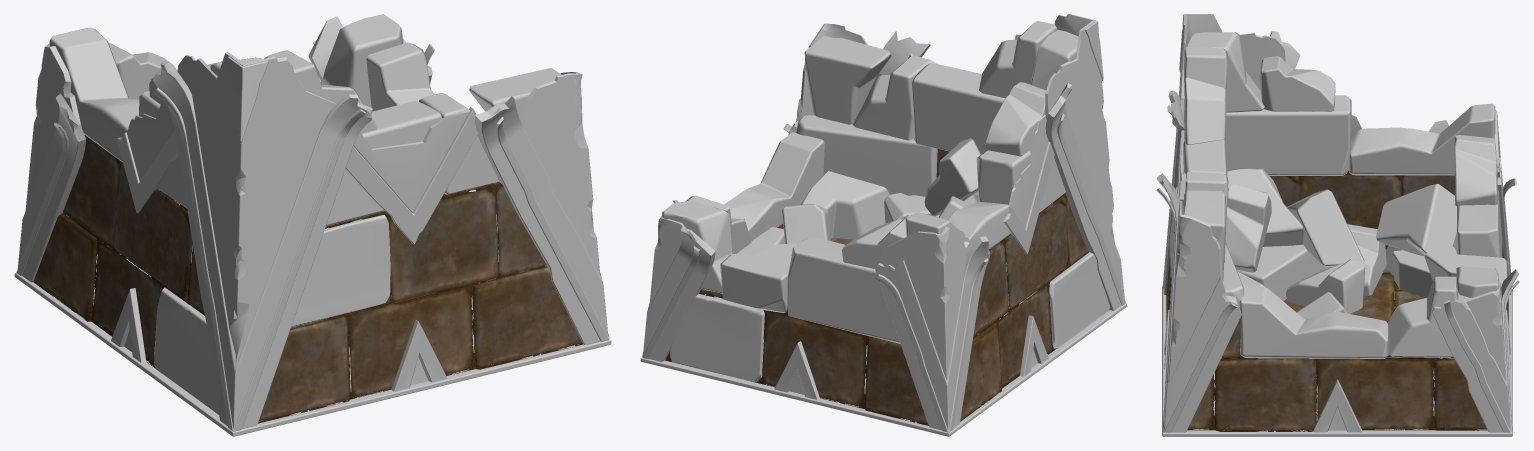
3 views of the same model, side by side, from view 1: azimuth 30°, elevation 25°; view 2: azimuth 150°, elevation 25°; view 3: azimuth 270°, elevation 25° (orthographic). The views are drawn at different scales.
Visible parts, largest first — view 1: SM_DK_20m_TowerMid_02_LOD0; view 2: SM_DK_20m_TowerMid_02_LOD0; view 3: SM_DK_20m_TowerMid_02_LOD0.
Part boxes in pixels (left/top/right/bottom): SM_DK_20m_TowerMid_02_LOD0: left=14, top=14, right=611, bottom=436; SM_DK_20m_TowerMid_02_LOD0: left=640, top=14, right=1127, bottom=436; SM_DK_20m_TowerMid_02_LOD0: left=1156, top=14, right=1519, bottom=436.
Bounding box in the file's own units: 6.45 × 5.75 × 6.63.
